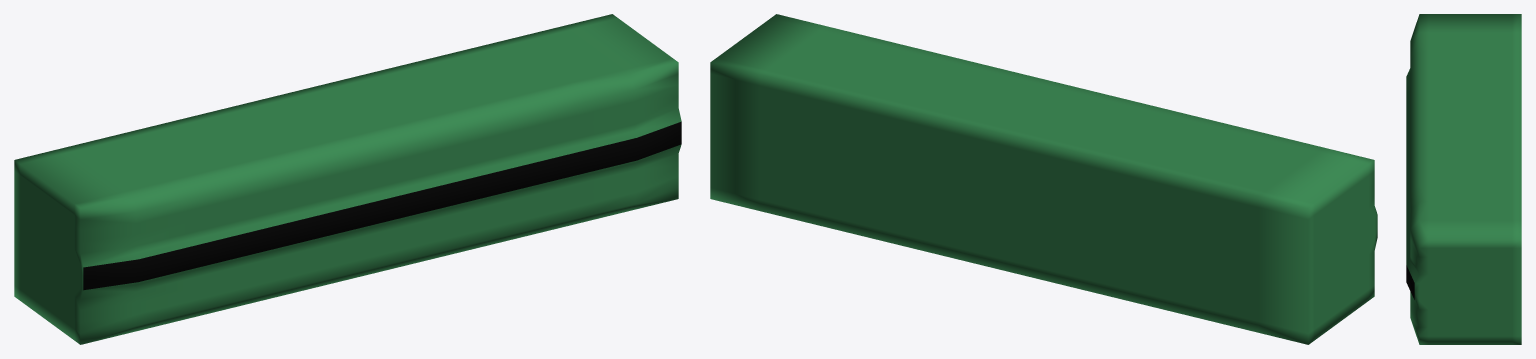
The model's file is asset36.glb.
3 views of the same model, side by side, from view 1: azimuth 30°, elevation 25°; view 2: azimuth 150°, elevation 25°; view 3: azimuth 270°, elevation 25° (orthographic). The views are drawn at different scales.
Parts seen in each view (by area): view 1: Cube1; view 2: Cube1; view 3: Cube1.
Boxes of the visible parts, box(x1,y1,x2,y2) form: Cube1: box(14, 14, 681, 344); Cube1: box(710, 14, 1377, 344); Cube1: box(1406, 14, 1521, 344).
Size of what is drawn, in the model's own units: 0.9121 by 0.1991 by 0.1971.
